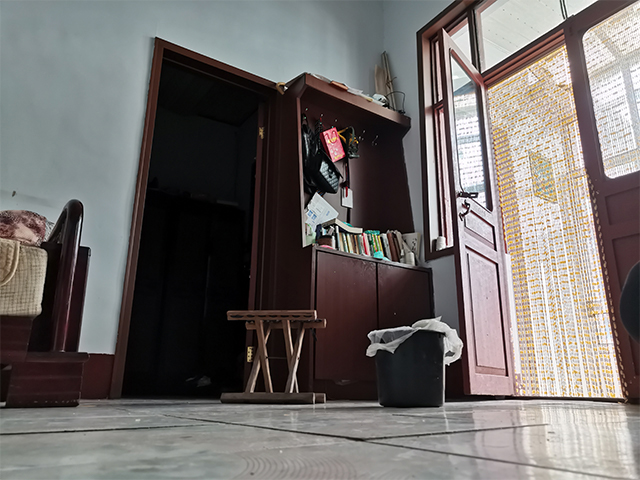cabinet: (273, 252, 435, 402)
sofa: (1, 197, 93, 410)
stool: (217, 307, 331, 406)
trashcan: (365, 325, 450, 409)
